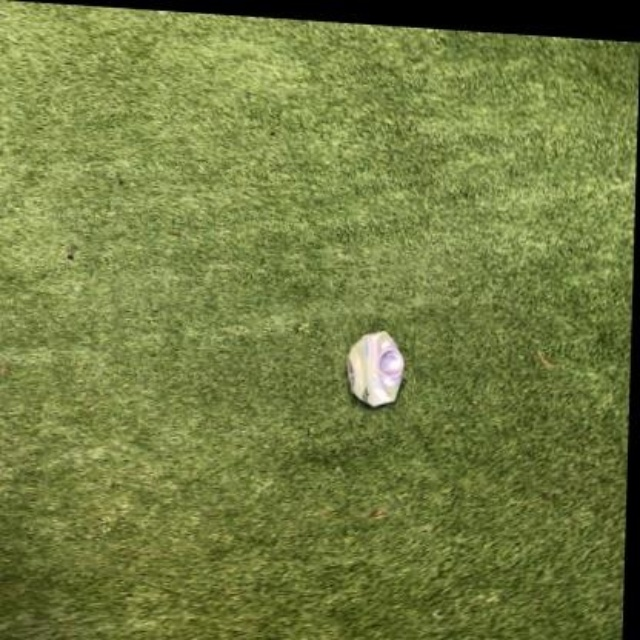trash: (346, 331, 403, 406)
